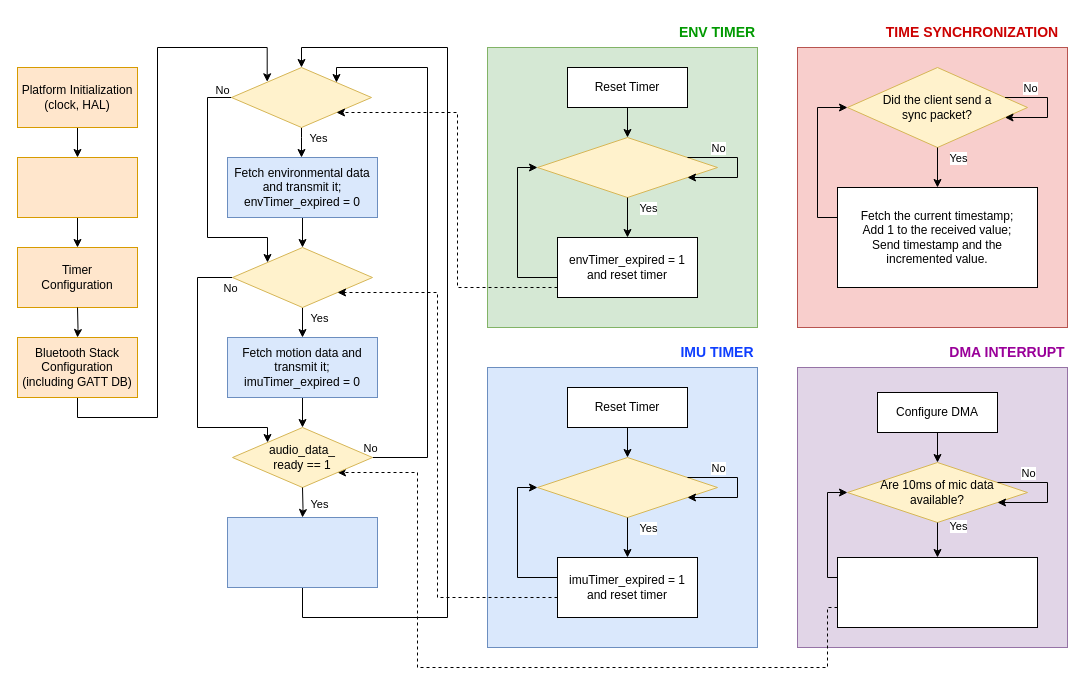
This 1085x693 diagram has some shape labels left out. Each missing label, with the centre of its shape:
"Are 13ms expired?" goes at pixel 627 487.
"Calculate Audio Level (dB) Calculate FFT Publish data audio_data_ready = 0" goes at pixel 302 552.
"Copy it in the PCM_audio variable and audio_data_ready = 1" goes at pixel 937 592.
"envTimer_ expired == 1" goes at pixel 301 97.
"imuTimer_ expired == 1" goes at pixel 302 277.
"Is 1s expired?" goes at pixel 627 167.
"Sensors Configuration" goes at pixel 77 187.
